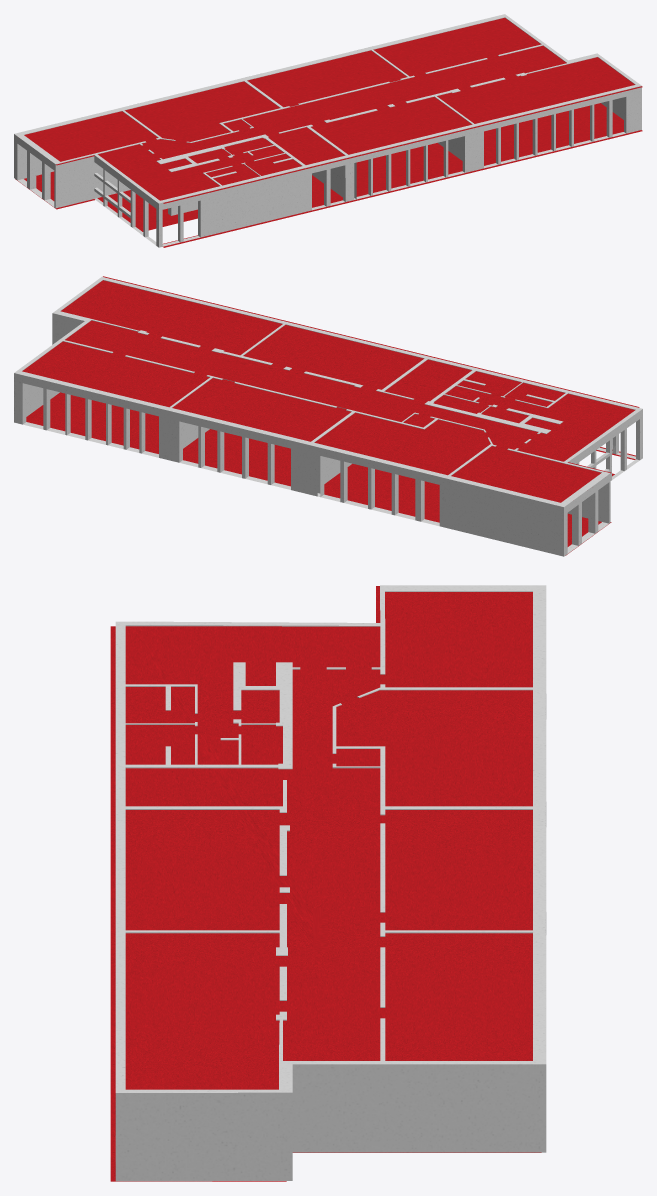
Rendered from MaterialsFloor2Actual.fbx.
3 views of the same model, one above another, from view 1: azimuth 30°, elevation 25°; view 2: azimuth 150°, elevation 25°; view 3: azimuth 270°, elevation 25° (orthographic). The views are drawn at different scales.
Visible parts, largest first — view 1: Plane, Cube.001; view 2: Plane, Cube.001; view 3: Plane, Cube.001.
Boxes of the visible parts, bbox=[...] form: Plane: bbox=[15, 17, 642, 247]; Cube.001: bbox=[14, 14, 641, 247]; Plane: bbox=[22, 276, 639, 555]; Cube.001: bbox=[14, 277, 642, 556]; Plane: bbox=[110, 586, 541, 1181]; Cube.001: bbox=[115, 585, 546, 1181].
Size of the model in its own units: 6933 by 566 by 2513.
2 materials, 2 textured.
